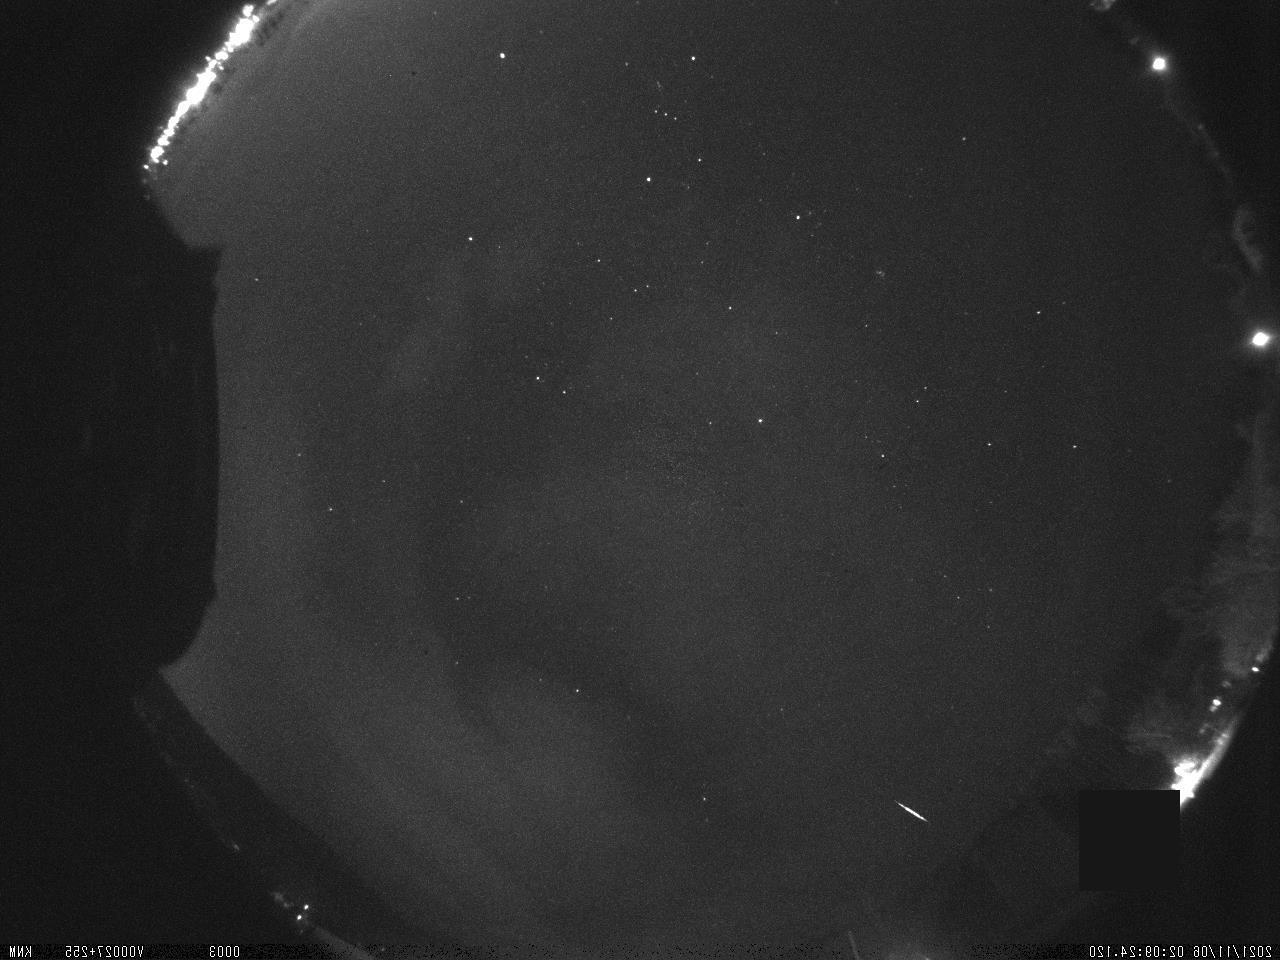meteor: (884, 792, 938, 831)
